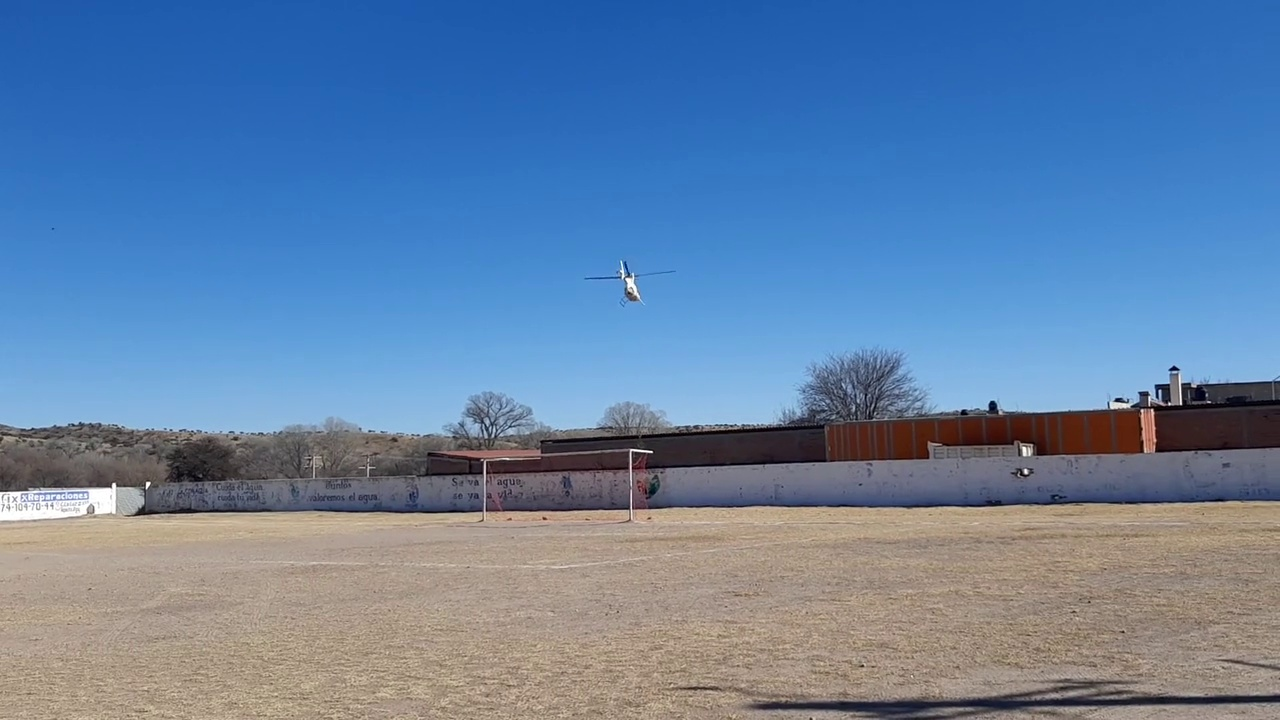heli: (584, 259, 676, 307)
